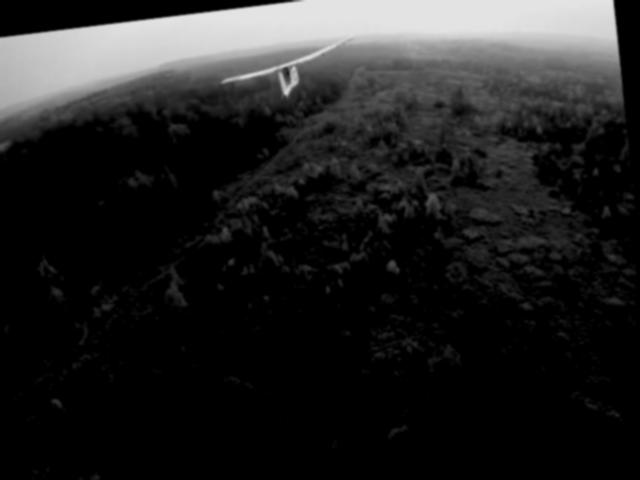hedef: (223, 33, 358, 114)
